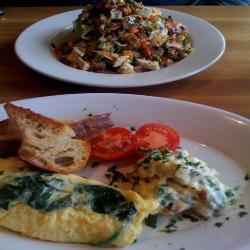bread: (1, 98, 95, 176)
omelette: (2, 161, 163, 248)
rice: (61, 1, 191, 81)
